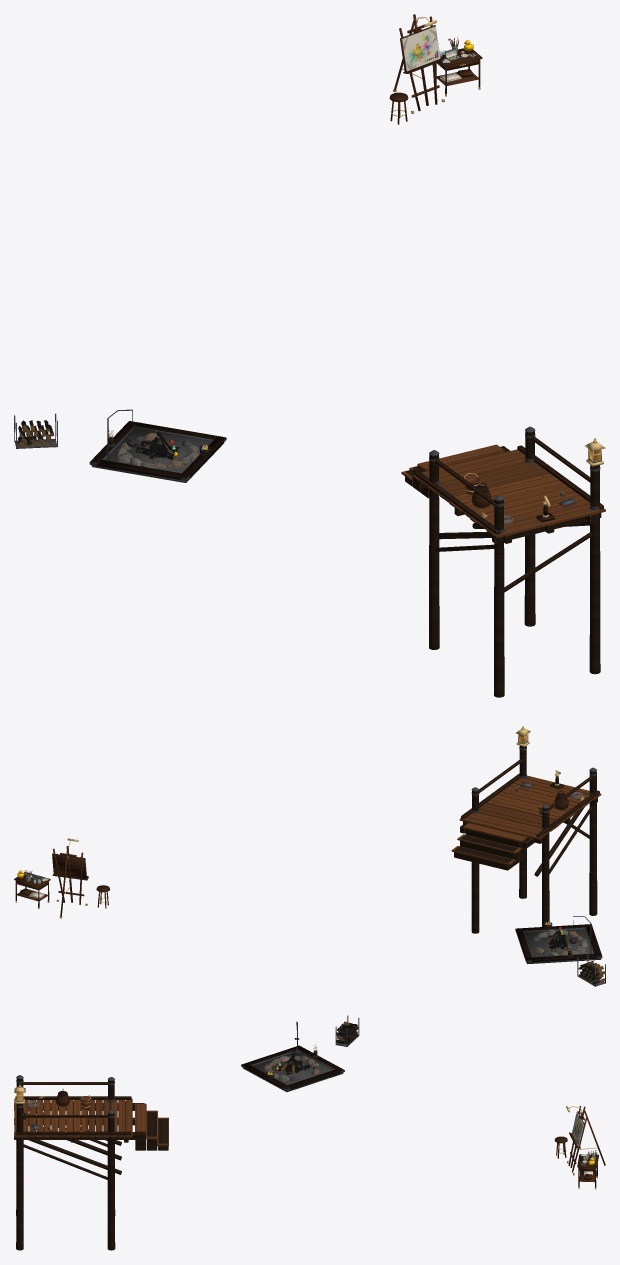
File: chunk_04_stations.glb
3 views of the same model, one above another, from view 1: azimuth 30°, elevation 25°; view 2: azimuth 150°, elevation 25°; view 3: azimuth 270°, elevation 25° (orthographic). The views are drawn at different scales.
Parts seen in each view (by area): view 1: L06_Coastal_Pier_Deck, UI_Station_RoastingCampfire, UI_Station_WatercolorAtelier, UI_Atelier_WatercolorCanvas, UI_Station_Campfire_Stones, L06_Coastal_Pier_Props; view 2: L06_Coastal_Pier_Deck, UI_Station_RoastingCampfire, UI_Station_WatercolorAtelier, UI_Station_Campfire_Stones, L06_Coastal_Pier_Props; view 3: L06_Coastal_Pier_Deck, UI_Station_RoastingCampfire, UI_Station_WatercolorAtelier, L06_Coastal_Pier_Props, UI_Station_Campfire_Stones.
Boxes of the visible parts, x1=… form: L06_Coastal_Pier_Deck: x1=401, y1=426, x2=605, y2=697; UI_Station_RoastingCampfire: x1=14, y1=409, x2=226, y2=482; UI_Station_WatercolorAtelier: x1=389, y1=14, x2=482, y2=124; UI_Atelier_WatercolorCanvas: x1=401, y1=26, x2=440, y2=71; UI_Station_Campfire_Stones: x1=116, y1=433, x2=199, y2=468; L06_Coastal_Pier_Props: x1=464, y1=473, x2=576, y2=525; L06_Coastal_Pier_Deck: x1=451, y1=746, x2=601, y2=933; UI_Station_RoastingCampfire: x1=515, y1=916, x2=605, y2=986; UI_Station_WatercolorAtelier: x1=14, y1=838, x2=109, y2=918; UI_Station_Campfire_Stones: x1=531, y1=929, x2=588, y2=955; L06_Coastal_Pier_Props: x1=515, y1=770, x2=584, y2=817; L06_Coastal_Pier_Deck: x1=14, y1=1075, x2=168, y2=1250; UI_Station_RoastingCampfire: x1=241, y1=1015, x2=359, y2=1092; UI_Station_WatercolorAtelier: x1=554, y1=1106, x2=605, y2=1189; L06_Coastal_Pier_Props: x1=23, y1=1089, x2=91, y2=1130; UI_Station_Campfire_Stones: x1=263, y1=1055, x2=321, y2=1081.
Bounding box in the file's own units: 15.54 × 7.35 × 17.93.
75 materials, 34 textured.
